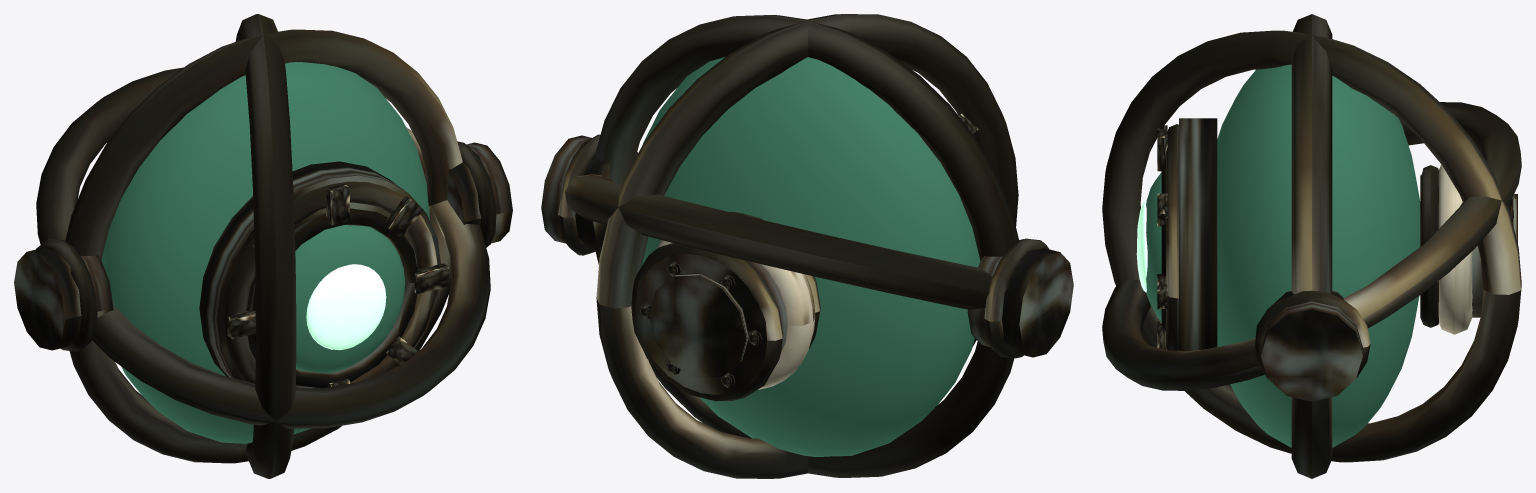
File: organ-stabilizer-icon-v1.glb
3 renders of one model, left to right at view 1: azimuth 30°, elevation 25°; view 2: azimuth 150°, elevation 25°; view 3: azimuth 270°, elevation 25°, orthographic. The views are drawn at different scales.
Parts seen in each view (by area): view 1: organ-stabilizer-icon-v1-brass, organ-stabilizer-icon-v1-glass, organ-stabilizer-icon-v1-steel, organ-stabilizer-icon-v1-light; view 2: organ-stabilizer-icon-v1-brass, organ-stabilizer-icon-v1-glass, organ-stabilizer-icon-v1-steel, organ-stabilizer-icon-v1-ceramic; view 3: organ-stabilizer-icon-v1-brass, organ-stabilizer-icon-v1-glass, organ-stabilizer-icon-v1-steel, organ-stabilizer-icon-v1-ceramic, organ-stabilizer-icon-v1-light.
Boxes of the visible parts, left/top/right/bottom form: organ-stabilizer-icon-v1-brass: left=36, top=14, right=496, bottom=478; organ-stabilizer-icon-v1-glass: left=101, top=62, right=429, bottom=443; organ-stabilizer-icon-v1-steel: left=14, top=142, right=512, bottom=388; organ-stabilizer-icon-v1-light: left=306, top=264, right=386, bottom=350; organ-stabilizer-icon-v1-brass: left=558, top=14, right=1049, bottom=478; organ-stabilizer-icon-v1-glass: left=642, top=57, right=980, bottom=456; organ-stabilizer-icon-v1-steel: left=541, top=135, right=1073, bottom=394; organ-stabilizer-icon-v1-ceramic: left=657, top=240, right=815, bottom=389; organ-stabilizer-icon-v1-brass: left=1102, top=14, right=1521, bottom=478; organ-stabilizer-icon-v1-glass: left=1146, top=64, right=1420, bottom=447; organ-stabilizer-icon-v1-steel: left=1161, top=118, right=1517, bottom=401; organ-stabilizer-icon-v1-ceramic: left=1438, top=164, right=1472, bottom=334; organ-stabilizer-icon-v1-light: left=1136, top=200, right=1147, bottom=292.
Size of the model in its own units: 0.74 by 0.668 by 0.6006.
3 materials, 1 textured.
